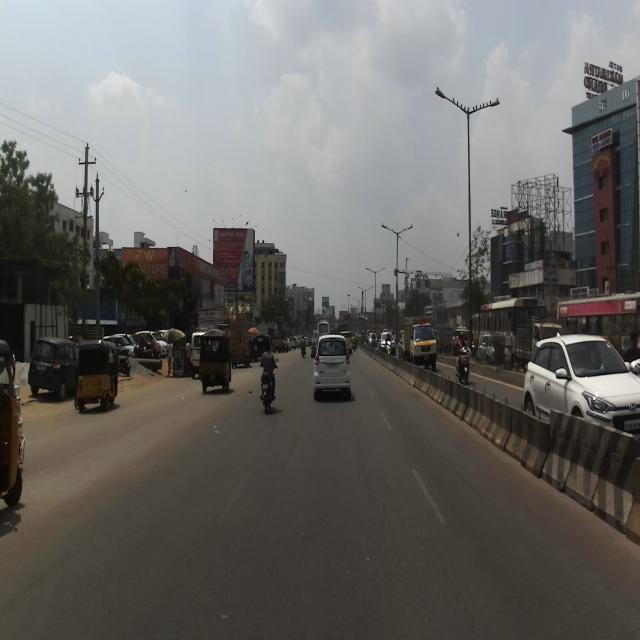Car_Hyundai: (522, 334, 640, 436)
Car_Maruti-Suzuki: (312, 331, 356, 400)
motorcycle_Hero: (257, 357, 279, 412)
truck: (402, 314, 437, 372)
